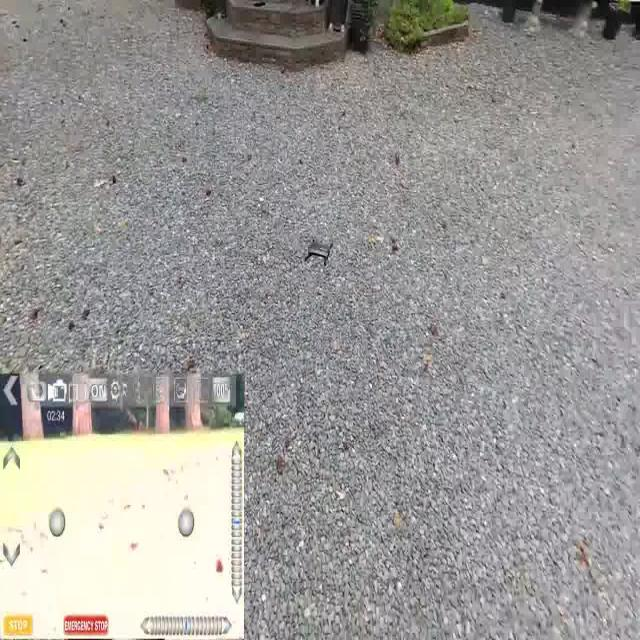drones: (299, 228, 342, 279)
